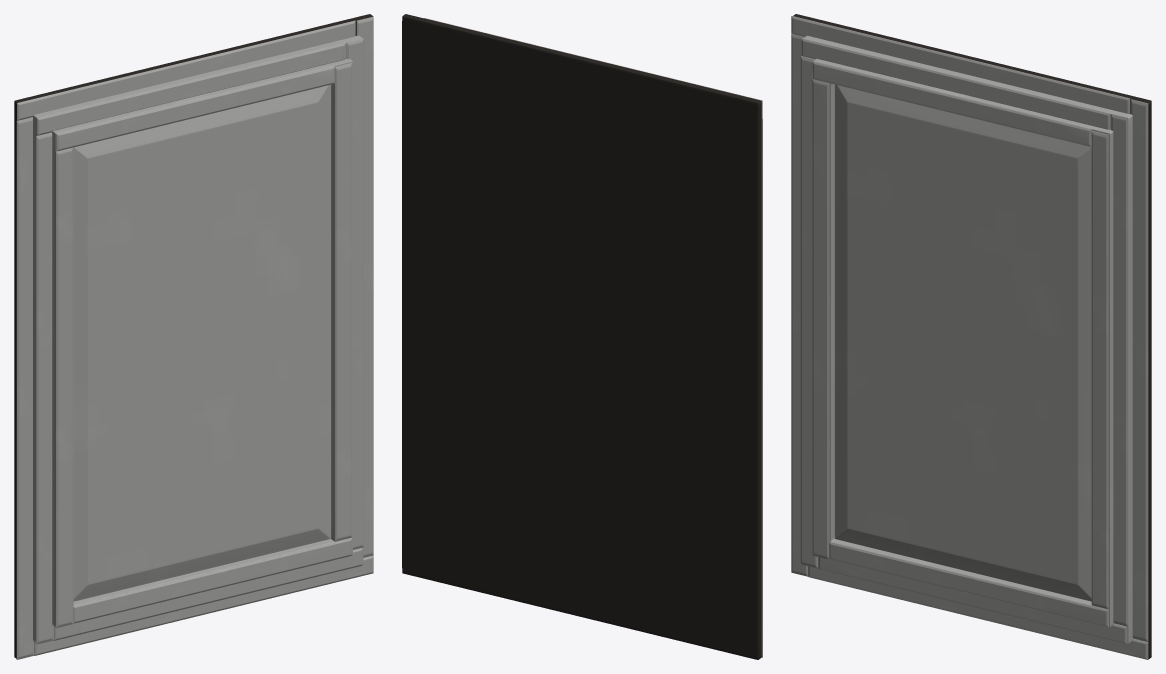
The model's file is abo-B0772KHYF7.glb.
3 views of the same model, side by side, from view 1: azimuth 30°, elevation 25°; view 2: azimuth 150°, elevation 25°; view 3: azimuth 330°, elevation 25° (orthographic).
Bounding box in the file's own units: 0.613 × 0.914 × 0.039.
1 material, 1 textured.
